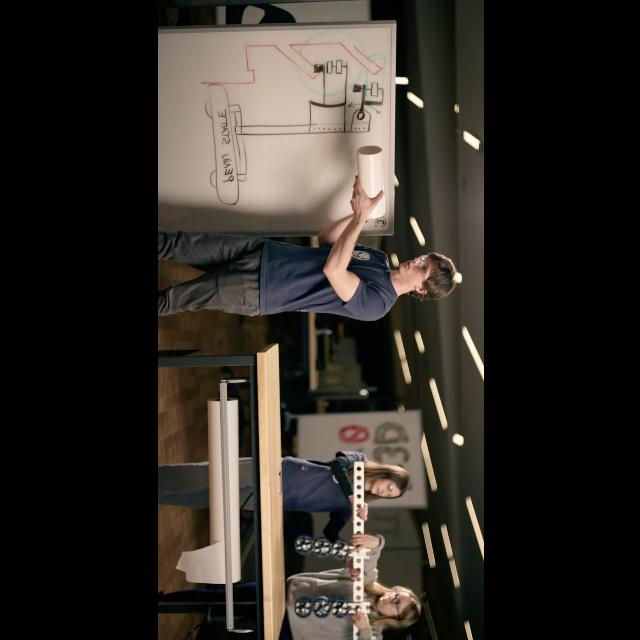CORAL: (356, 146, 386, 218)
